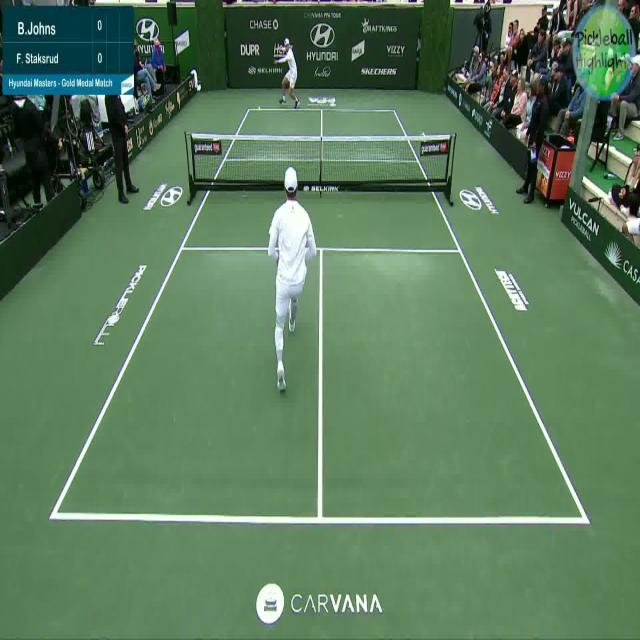ball: (255, 104, 263, 115)
